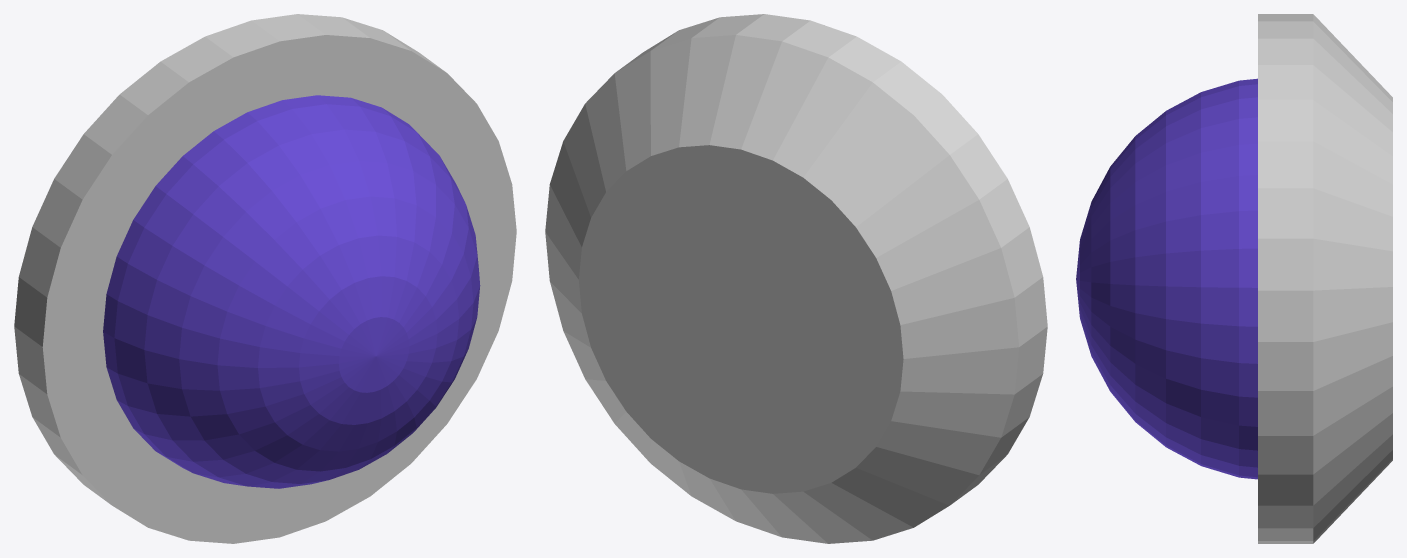
Rendered from ufo.fbx.
The picture shows the model from 3 angles, left to right: view 1: azimuth 30°, elevation 25°; view 2: azimuth 150°, elevation 25°; view 3: azimuth 270°, elevation 25°; orthographic projection. The views are drawn at different scales.
Visible parts, largest first — view 1: Sphere; view 2: Sphere; view 3: Sphere.
Part boxes in pixels (box(x1,y1,x2,y2)): Sphere: box(14, 14, 516, 543); Sphere: box(545, 14, 1047, 543); Sphere: box(1076, 14, 1392, 543).
Bounding box in the file's own units: 170 × 170 × 102.
